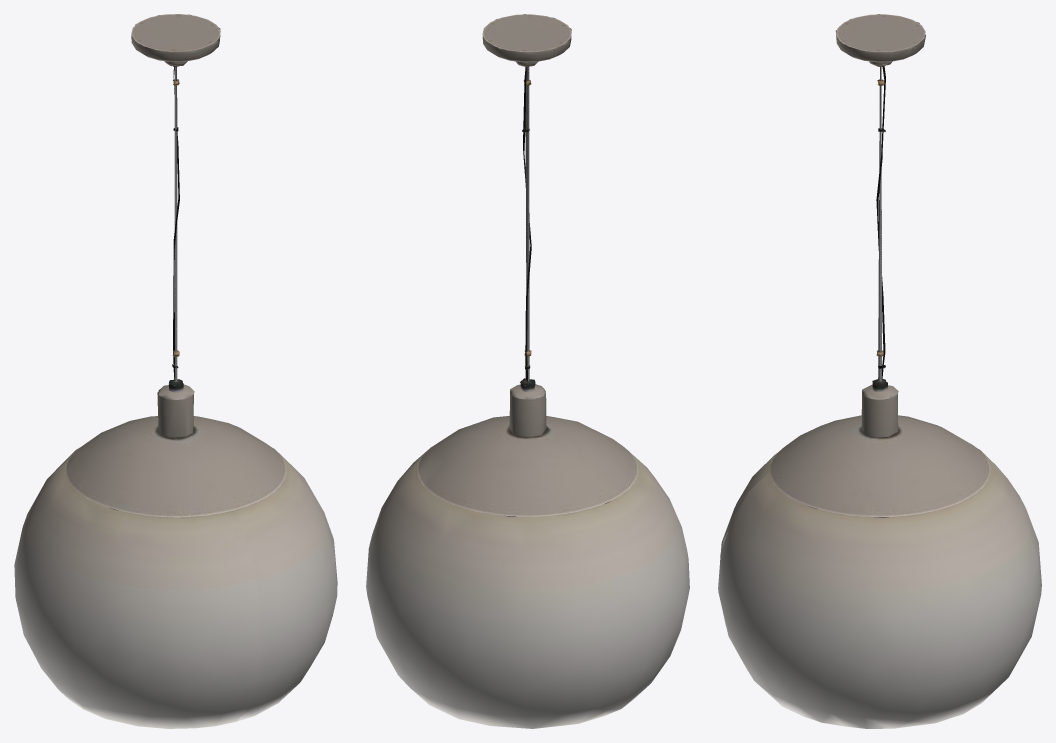
Rendered from ceiling-lamp.glb.
The picture shows the model from 3 angles, left to right: view 1: azimuth 30°, elevation 25°; view 2: azimuth 150°, elevation 25°; view 3: azimuth 270°, elevation 25°; orthographic projection.
Parts seen in each view (by area): view 1: modern_ceiling_lamp_01; view 2: modern_ceiling_lamp_01; view 3: modern_ceiling_lamp_01.
Boxes of the visible parts, x1,y1,x2,y2 form: modern_ceiling_lamp_01: (14,14,337,728); modern_ceiling_lamp_01: (366,14,689,728); modern_ceiling_lamp_01: (718,14,1041,728).
Size of the model in its own units: 0.4316 by 0.952 by 0.4317.
3 materials, 3 textured.
